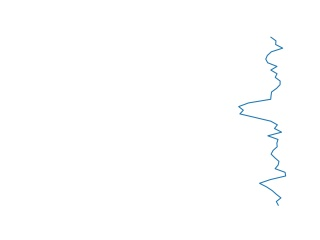interdistributaryEstuary: (235, 36, 293, 205)
